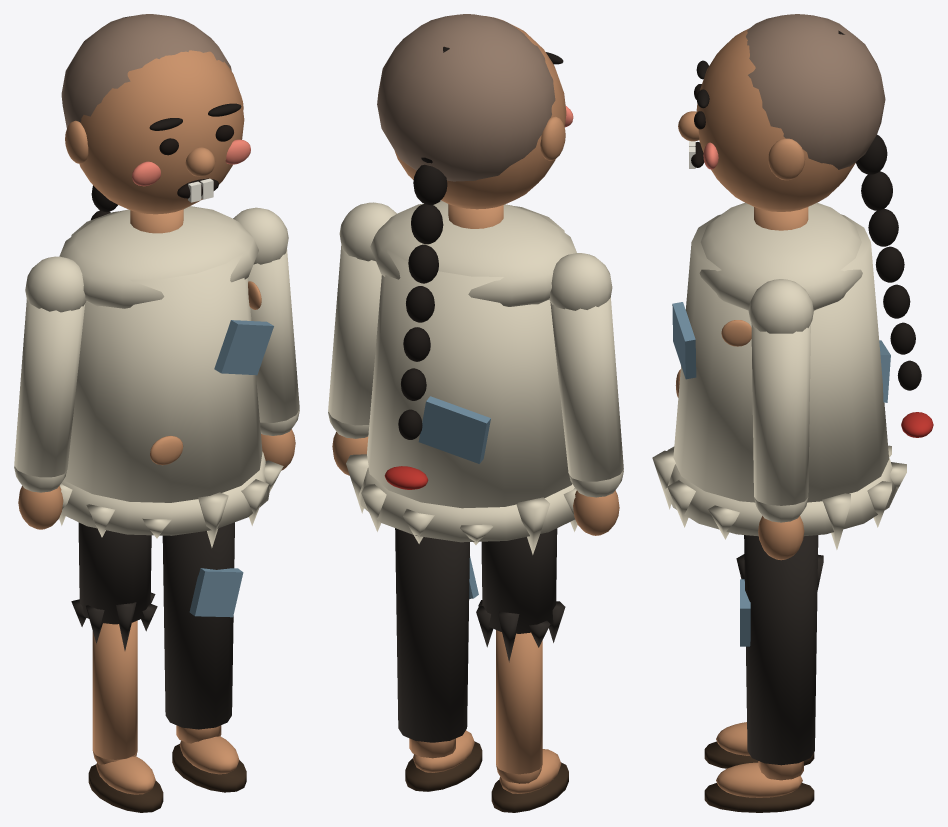
Rendered from villager_chang_bim.glb.
3 views of the same model, side by side, from view 1: azimuth 30°, elevation 25°; view 2: azimuth 150°, elevation 25°; view 3: azimuth 270°, elevation 25° (orthographic). The views are drawn at different scales.
Parts seen in each view (by area): view 1: Body, Head, LegR, LegL, ArmL, ArmR; view 2: Body, Head, LegR, LegL, ArmL, ArmR; view 3: Body, Head, LegR, ArmR, LegL.
Boxes of the visible parts, <box> form: Body: <box>59,206,283,547</box>; Head: <box>61,14,250,219</box>; LegR: <box>162,522,246,792</box>; LegL: <box>71,522,163,812</box>; ArmL: <box>14,256,86,529</box>; ArmR: <box>233,207,299,470</box>; Body: <box>346,200,577,554</box>; Head: <box>377,14,573,489</box>; LegR: <box>395,528,482,791</box>; LegL: <box>476,528,568,812</box>; ArmL: <box>549,253,623,535</box>; ArmR: <box>328,202,396,475</box>; Body: <box>652,202,906,549</box>; Head: <box>678,14,933,437</box>; LegR: <box>704,535,818,812</box>; ArmR: <box>748,279,813,560</box>; LegL: <box>704,554,823,768</box>.
Size of the model in its own units: 0.6 by 1.54 by 0.5173.
